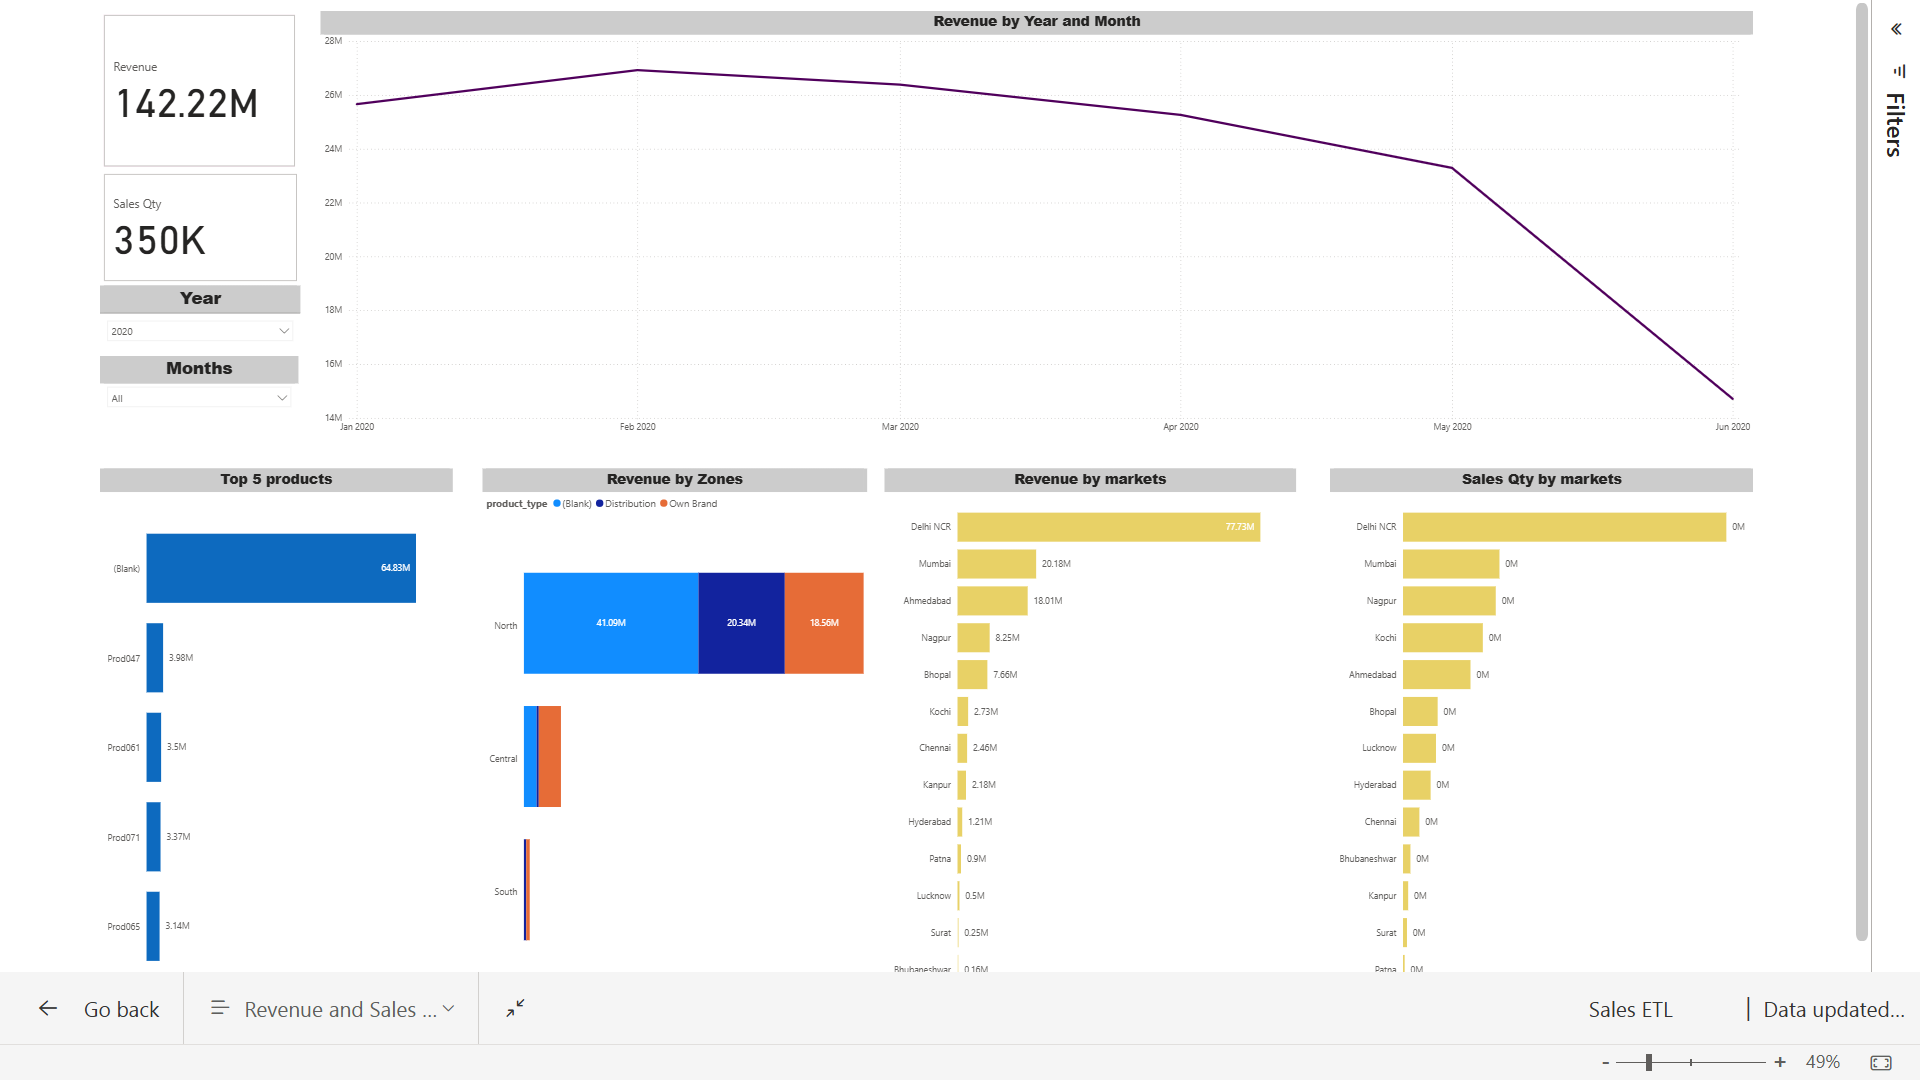

This screenshot's page, from the dashboard's own definition file:
{"tool":"powerbi","page":{"name":"Revenue and Sales insight","canvas":[2250,1350],"ordinal":0},"visuals":[{"type":"cardVisual","title":"Revenue","fields":{"Data":["BaseMeasures.Revenue"]},"box":[0,0,270,216.7],"z":0},{"type":"cardVisual","fields":{"Data":["BaseMeasures.Sales Qty"]},"box":[0,216.7,273.3,156.7],"z":1000},{"type":"barChart","title":"Revenue by markets","fields":{"Y":["BaseMeasures.Revenue"],"Category":["sales markets.markets_name"]},"box":[1066.7,623.3,560,726.7],"z":2000},{"type":"barChart","title":"Sales Qty by markets","fields":{"Y":["BaseMeasures.Sales Qty"],"Category":["sales markets.markets_name"]},"box":[1673.3,623.3,576.7,726.7],"z":3000},{"type":"slicer","title":"Year","fields":{"Values":["sales date.cy_date.Variation.Date Hierarchy.Year"]},"box":[0,373,273,97.3],"z":4000},{"type":"slicer","title":"Months","fields":{"Values":["sales date.cy_date.Variation.Date Hierarchy.Month"]},"box":[0,470,270,113.3],"z":5000},{"type":"barChart","title":"Revenue by Zones","fields":{"Y":["BaseMeasures.Revenue"],"Category":["sales markets.zone"],"Series":["sales products.product_type"]},"box":[520,623.3,523.3,726.7],"z":6000},{"type":"barChart","title":"Top 5 products","fields":{"Y":["BaseMeasures.Revenue"],"Category":["sales products.product_code"]},"box":[0,623.3,480,726.7],"z":7000},{"type":"lineChart","fields":{"Y":["BaseMeasures.Revenue"],"Category":["sales date.date.Variation.Date Hierarchy.Year","sales date.date.Variation.Date Hierarchy.Month"]},"box":[300,0,1950,583.3],"z":8000}]}

Visuals, with their boxes on the page's 2250x1350 design canvas (x1, y1, x2, y2). These are canvas units, not pixel positions in the 1920x1080 screenshot, which may show the page scaled, cropped or inside an application window:
"Revenue" cardVisual: 0:0:270:217
cardVisual - BaseMeasures.Sales Qty: 0:217:273:373
"Revenue by markets" barChart: 1067:623:1627:1350
"Sales Qty by markets" barChart: 1673:623:2250:1350
"Year" slicer: 0:373:273:470
"Months" slicer: 0:470:270:583
"Revenue by Zones" barChart: 520:623:1043:1350
"Top 5 products" barChart: 0:623:480:1350
lineChart - BaseMeasures.Revenue x sales date.date.Variation.Date Hierarchy.Year: 300:0:2250:583
